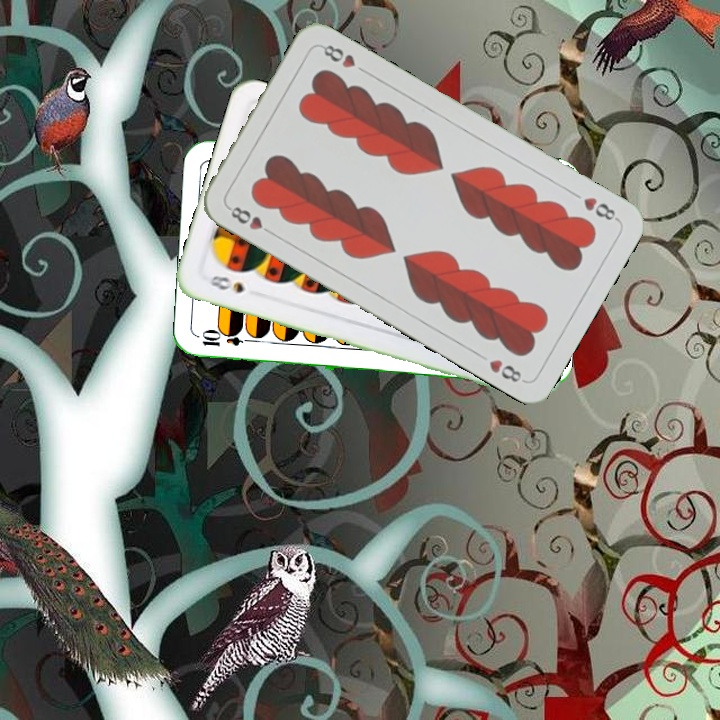E10: (198, 330, 257, 349)
H8: (223, 202, 277, 238), (579, 193, 621, 224)
S8: (205, 271, 247, 296)
